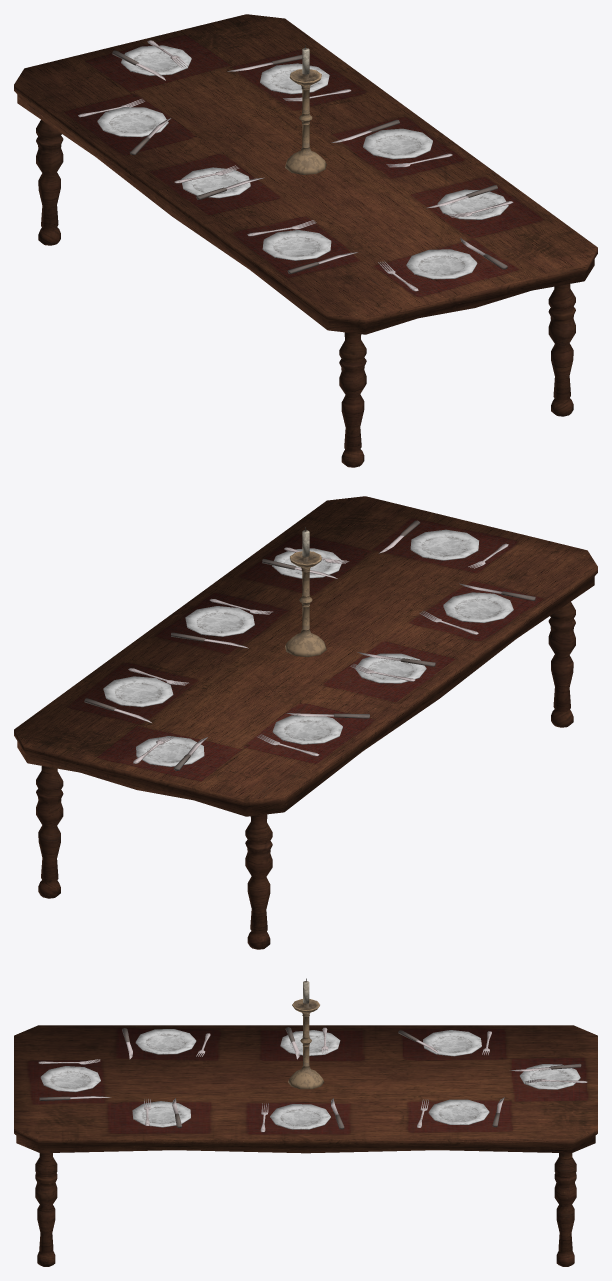
File: tableAndCutlery.glb
The picture shows the model from 3 angles, top to bottom: view 1: azimuth 30°, elevation 25°; view 2: azimuth 150°, elevation 25°; view 3: azimuth 270°, elevation 25°; orthographic projection. The views are drawn at different scales.
Visible parts, largest first — view 1: Table.001, CandleStick.002, Plate.009, Plate.011, Plate.016, Plate.014, Plate.013, Plate.010, Plate.015, Plate.012; view 2: Table.001, CandleStick.002, Plate.016, Plate.012, Plate.009, Plate.011, Plate.014, Plate.013, Plate.015, Plate.010; view 3: Table.001, CandleStick.002, Plate.011, Plate.016, Plate.012, Plate.009, Plate.014, Plate.010, Plate.013, Plate.015.
Boxes of the visible parts, bbox=[...] form: Table.001: bbox=[14, 14, 597, 467]; CandleStick.002: bbox=[285, 45, 326, 174]; Plate.009: bbox=[406, 249, 477, 279]; Plate.011: bbox=[363, 128, 432, 159]; Plate.016: bbox=[262, 230, 331, 260]; Plate.014: bbox=[97, 107, 168, 137]; Plate.013: bbox=[121, 45, 191, 75]; Plate.010: bbox=[437, 189, 508, 219]; Plate.015: bbox=[181, 167, 250, 198]; Plate.012: bbox=[260, 63, 329, 94]; Table.001: bbox=[14, 496, 597, 949]; CandleStick.002: bbox=[285, 527, 326, 657]; Plate.016: bbox=[443, 592, 513, 622]; Plate.012: bbox=[103, 676, 173, 707]; Plate.009: bbox=[410, 529, 479, 560]; Plate.011: bbox=[185, 606, 254, 636]; Plate.014: bbox=[272, 715, 342, 744]; Plate.013: bbox=[136, 736, 204, 766]; Plate.015: bbox=[355, 653, 426, 683]; Plate.010: bbox=[272, 548, 342, 578]; Table.001: bbox=[14, 1025, 597, 1266]; CandleStick.002: bbox=[288, 978, 324, 1089]; Plate.011: bbox=[270, 1104, 330, 1129]; Plate.016: bbox=[135, 1029, 196, 1054]; Plate.012: bbox=[428, 1099, 489, 1124]; Plate.009: bbox=[40, 1066, 100, 1092]; Plate.014: bbox=[423, 1030, 481, 1056]; Plate.010: bbox=[132, 1101, 190, 1127]; Plate.013: bbox=[519, 1064, 580, 1089]; Plate.015: bbox=[280, 1030, 340, 1056].
Bounding box in the file's own units: 10.48 × 10.45 × 22.84.
3 materials, 3 textured.
